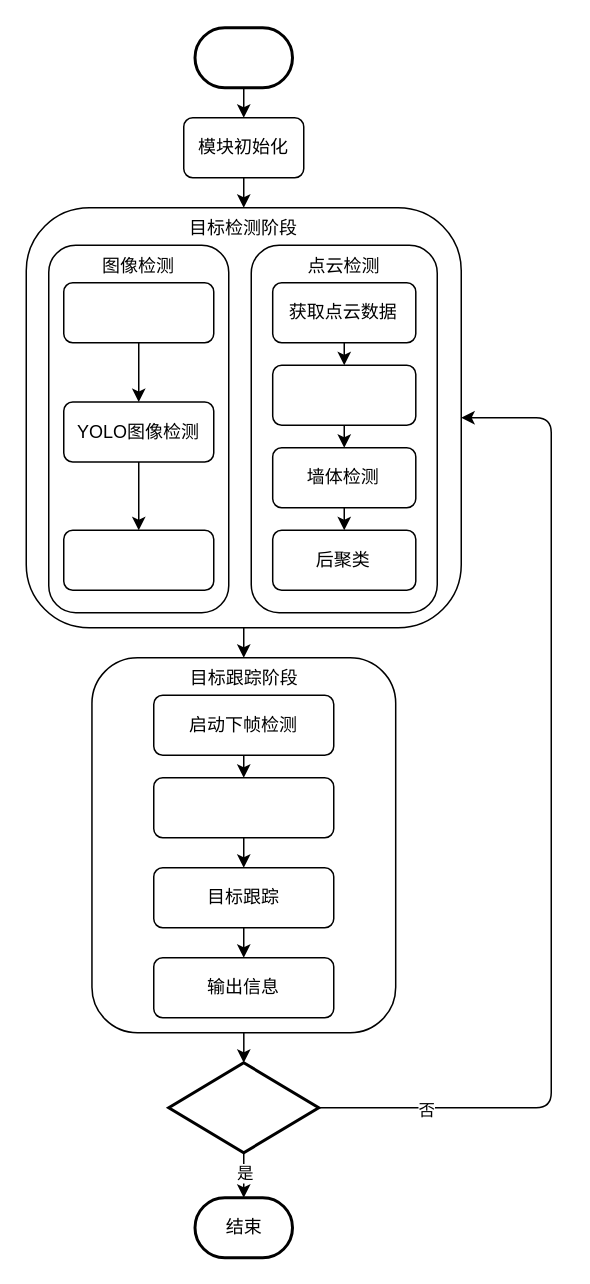
Image size: 590x1284. Some labels were removed from this diagram. The centre of each missing label's shape, as x and y in pixels:
"地面检测" goes at (x=343, y=394).
"开始" goes at (x=243, y=57).
"是否终止" goes at (x=243, y=1107).
"标签平滑" goes at (x=138, y=559).
"特征融合" goes at (x=243, y=807).
"获取图像数据" goes at (x=138, y=312).
